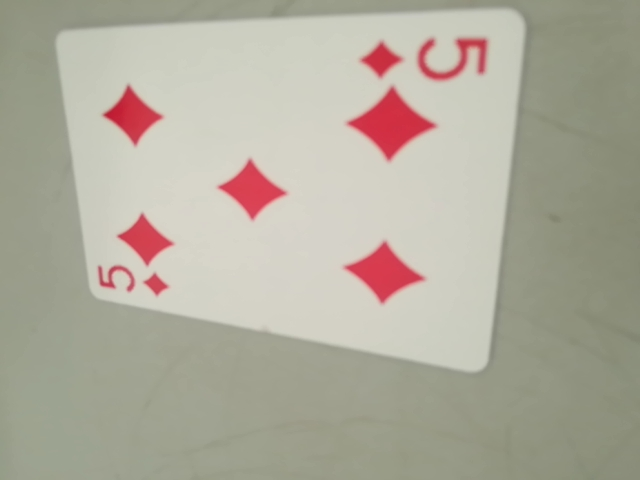fk 5: (357, 25, 493, 87), (93, 258, 174, 303)
